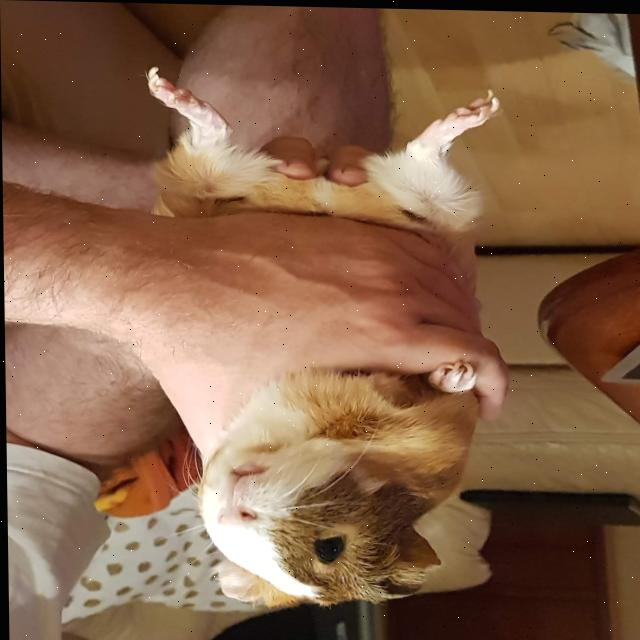guinea pig: (147, 65, 510, 614)
